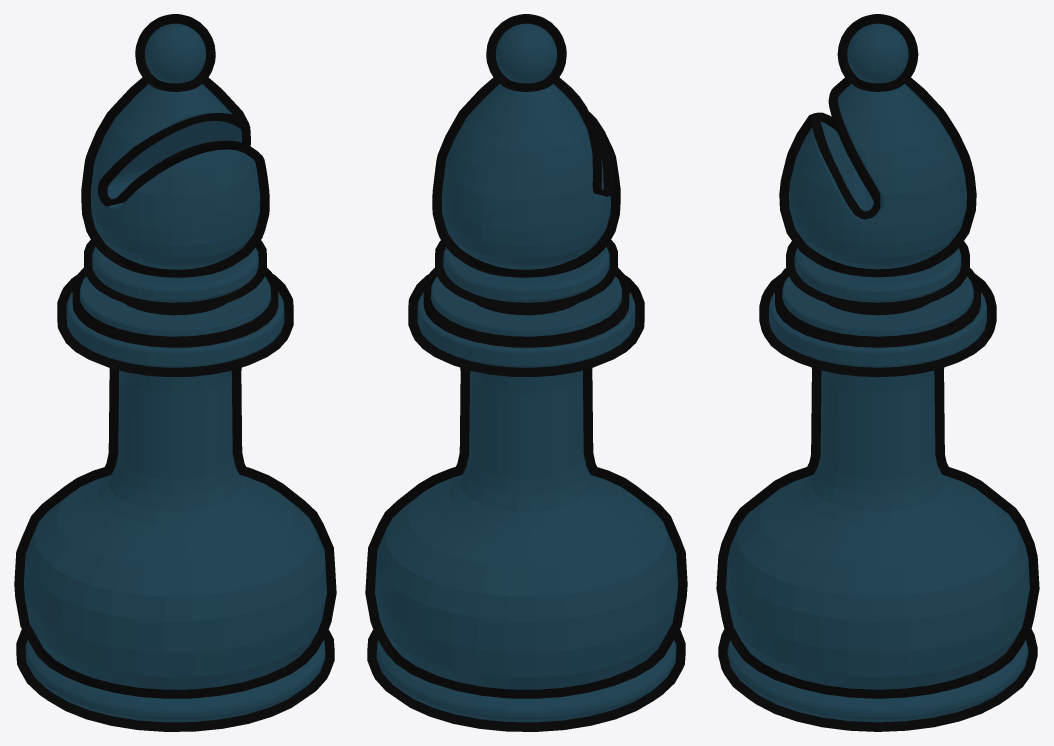
The model's file is cizgi_b_b.glb.
3 renders of one model, left to right at view 1: azimuth 30°, elevation 25°; view 2: azimuth 150°, elevation 25°; view 3: azimuth 270°, elevation 25°, orthographic.
Visible parts, largest first — view 1: Body, Outline1, Outline2; view 2: Body, Outline1, Outline2; view 3: Body, Outline1, Outline2.
Boxes of the visible parts, x1,y1,x2,y2 form: Body: (24,23,326,722); Outline1: (14,14,336,731); Outline2: (97,113,262,206); Body: (375,23,677,722); Outline1: (365,14,687,731); Outline2: (448,81,613,196); Body: (726,23,1029,722); Outline1: (716,14,1039,731); Outline2: (811,90,880,219).
Size of the model in its own units: 0.0337 by 0.0751 by 0.0337.
